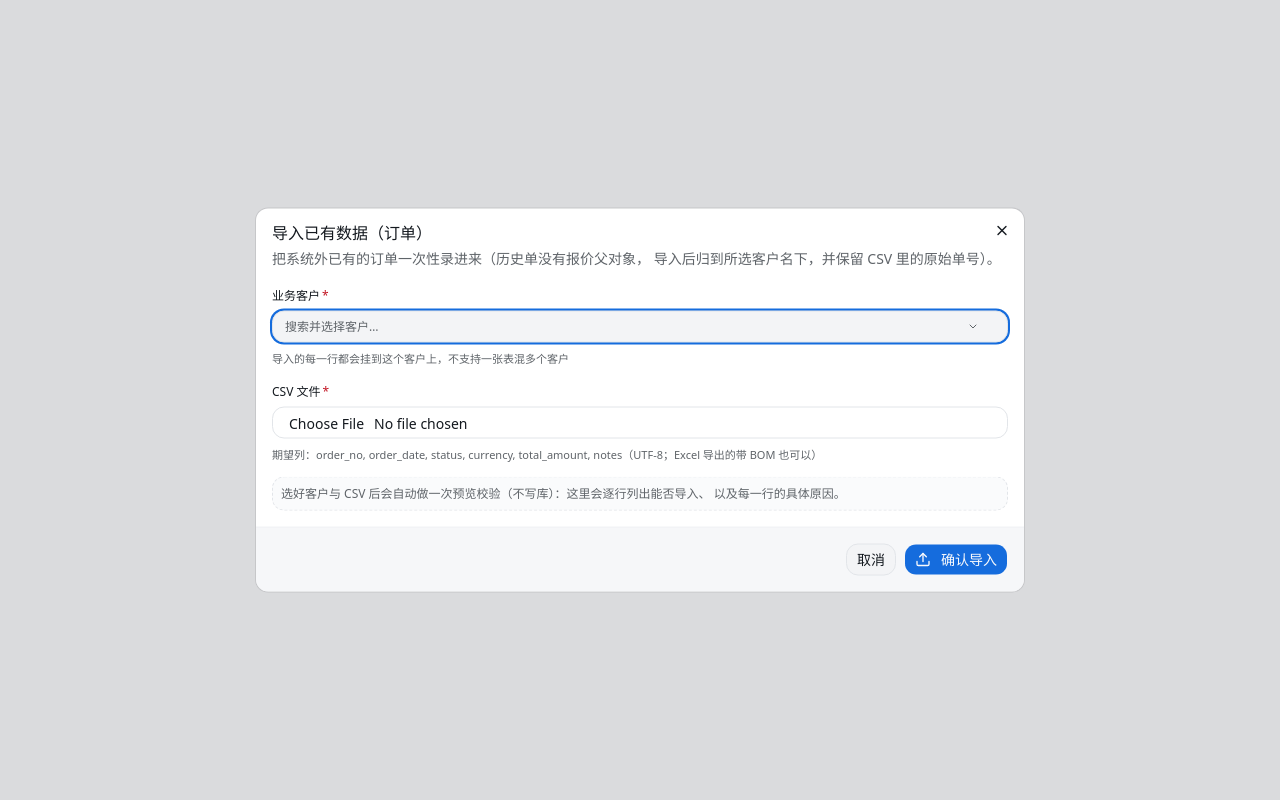
Test: ImportExistingDataDialog（历史订单导入） › 客户未选就点「确认导入」：明确告知，且不发任何请求
Click the button "确认导入" at {"x": 956, "y": 560}, box [904, 544, 1008, 576]
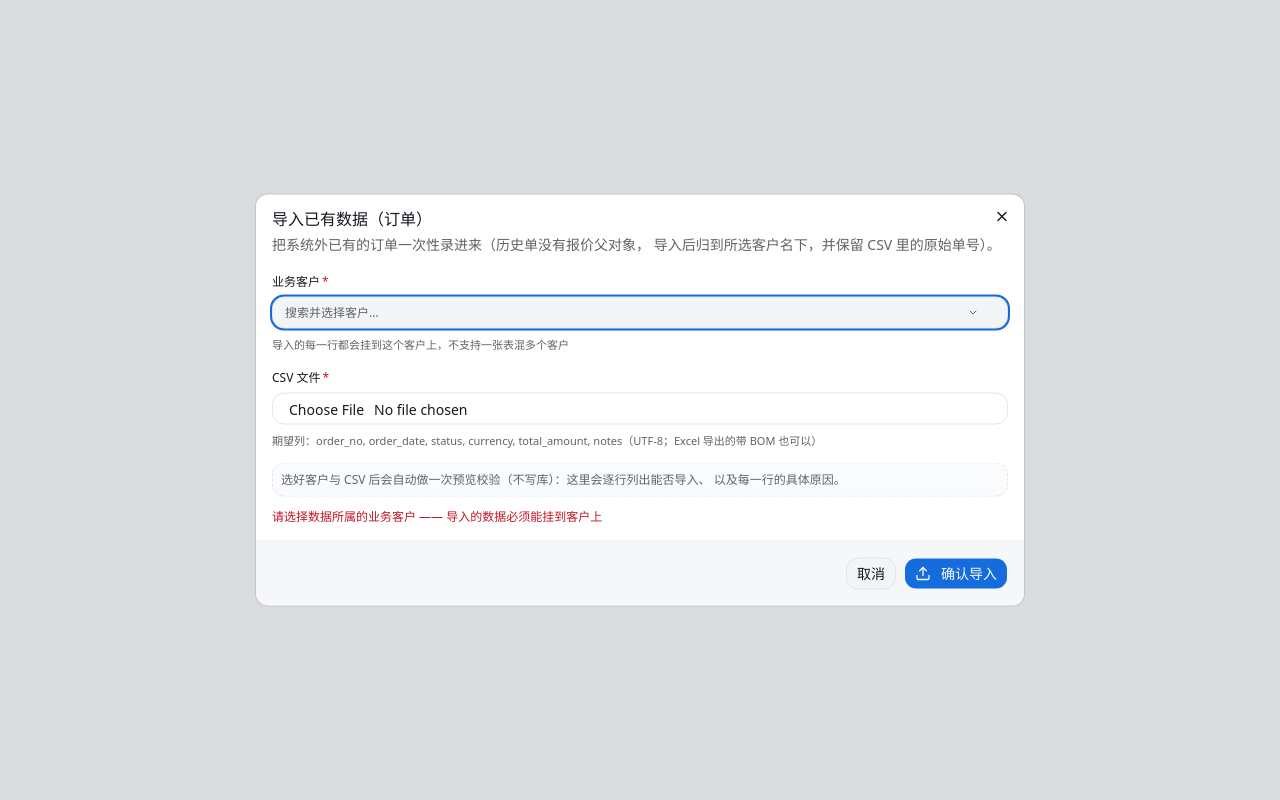
Check: the message "请选择数据所属的业务客户 —— 导入的数据必须能挂到客户上" is shown, box [272, 508, 602, 524]
